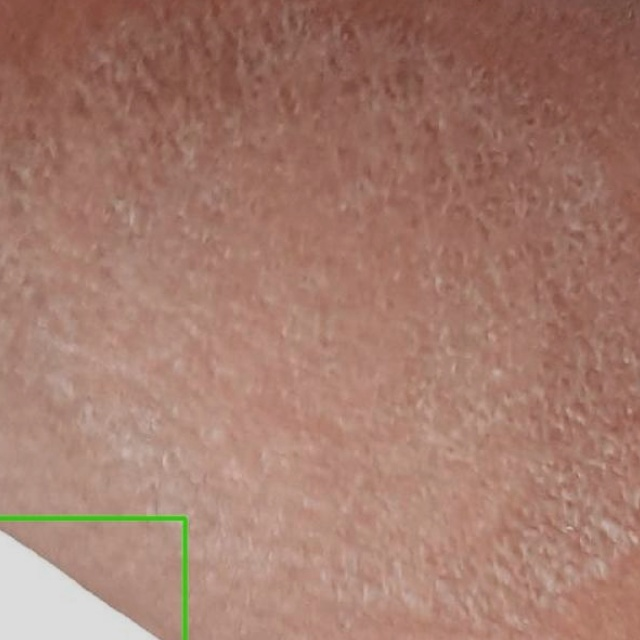Tinea Corporis: (0, 517, 186, 639)
